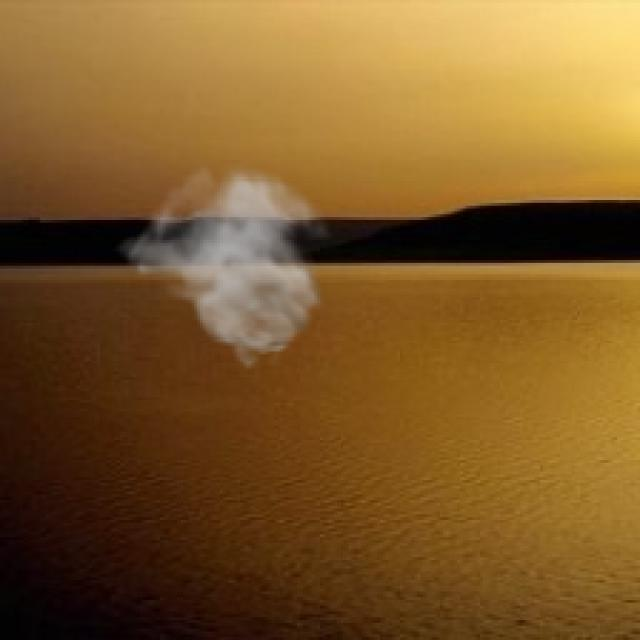smoke: (111, 160, 343, 371)
